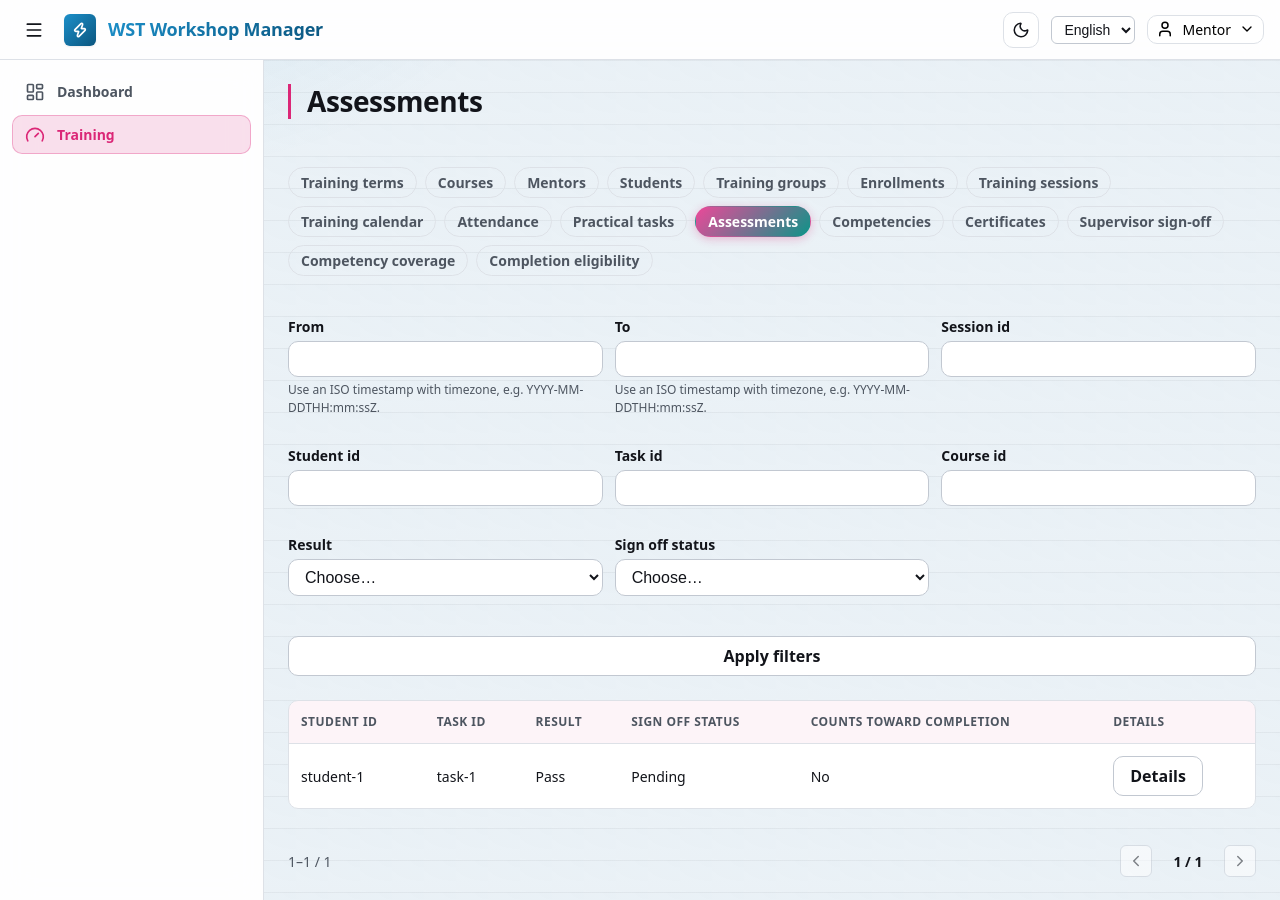
Test: assessment entry and supervisor separation › shows a separate supervisor form without entry/revision permissions
The width and height of the screenshot is (1280, 900).
Click the button "Details" at (1158, 776), box [1113, 756, 1203, 796]
(page scrolled)
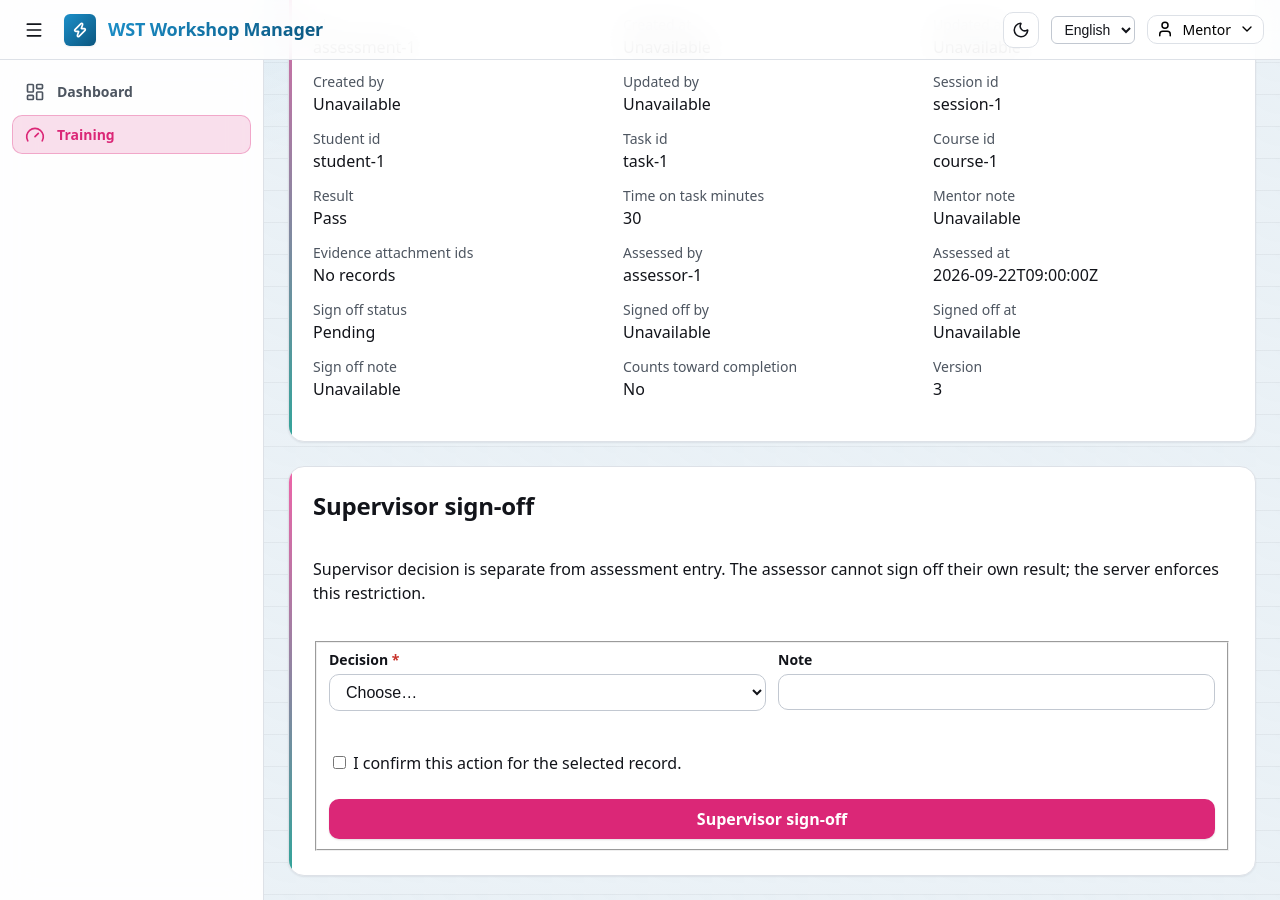
Result: the form "Supervisor sign-off" is shown at [313, 491, 1231, 851]
